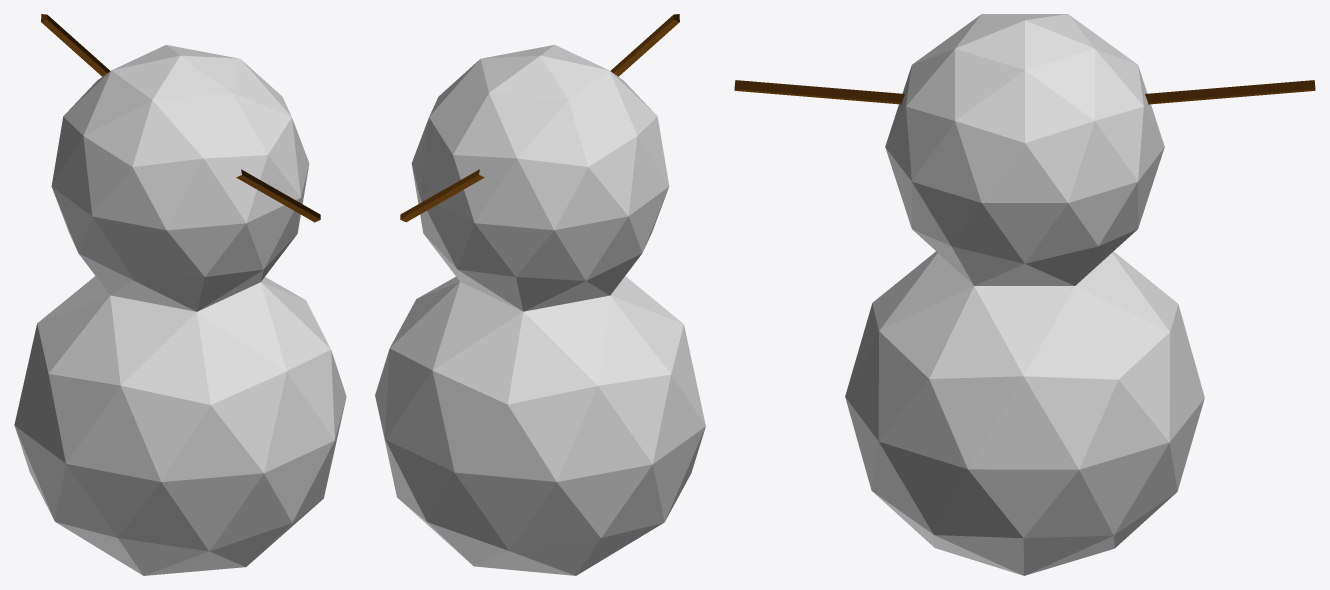
File: snowmanBody.glb
3 views of the same model, side by side, from view 1: azimuth 30°, elevation 25°; view 2: azimuth 150°, elevation 25°; view 3: azimuth 270°, elevation 25° (orthographic). The views are drawn at different scales.
Parts seen in each view (by area): view 1: snowbody; view 2: snowbody; view 3: snowbody.
Part boxes in pixels (x1,y1,x2,y2): snowbody: (14,14,346,575); snowbody: (375,14,705,575); snowbody: (734,14,1315,575).
Size of the model in its own units: 3.69 by 6.41 by 6.25.
